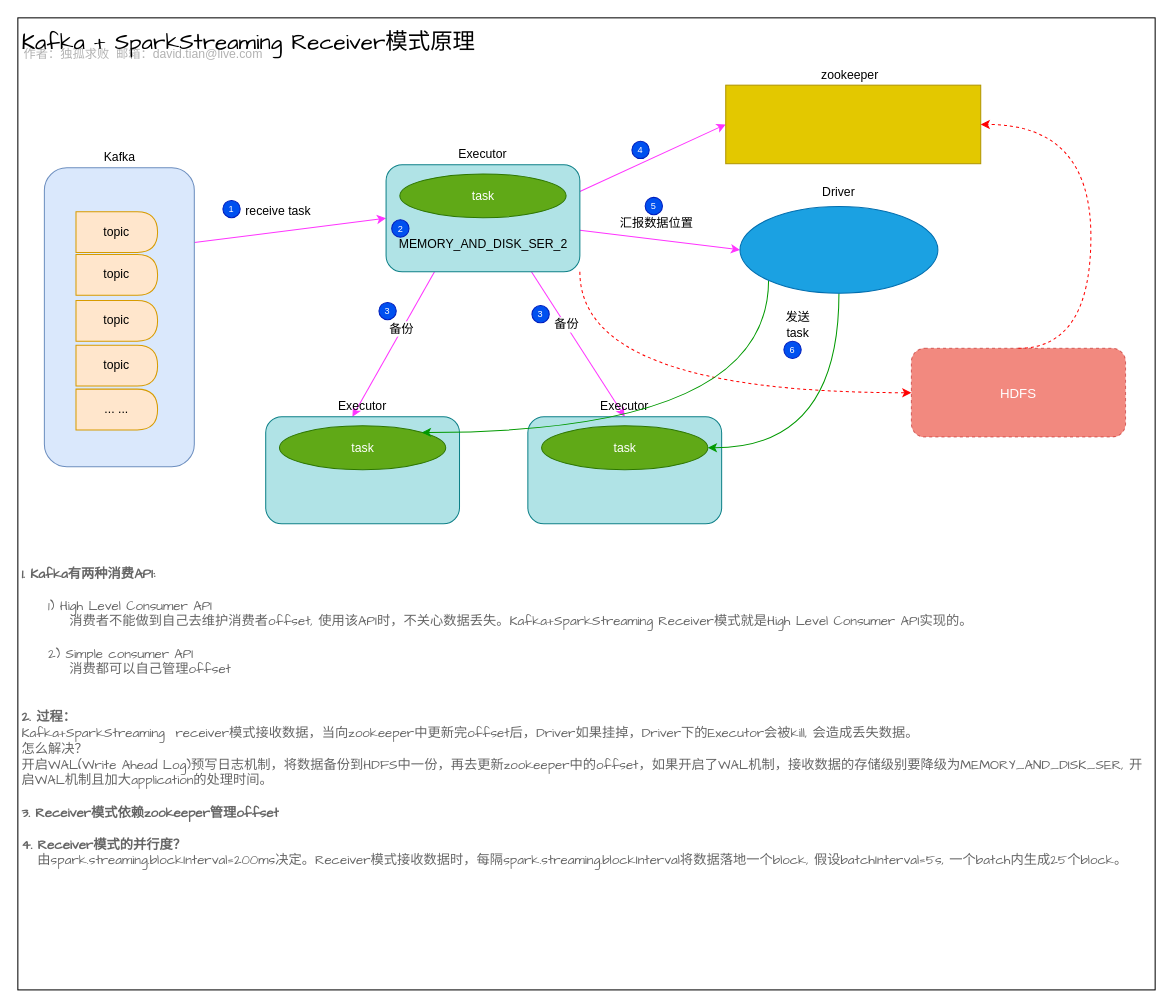
Some shapes in this 1173 by 1008 pixel diagram are drawn without their labels. Here are the shapes that lost their labels. From the top down, the centre of each, then its label:
the point at 853,124: 向zookeeper中更新offset
the point at 838,249: receiver tracker
